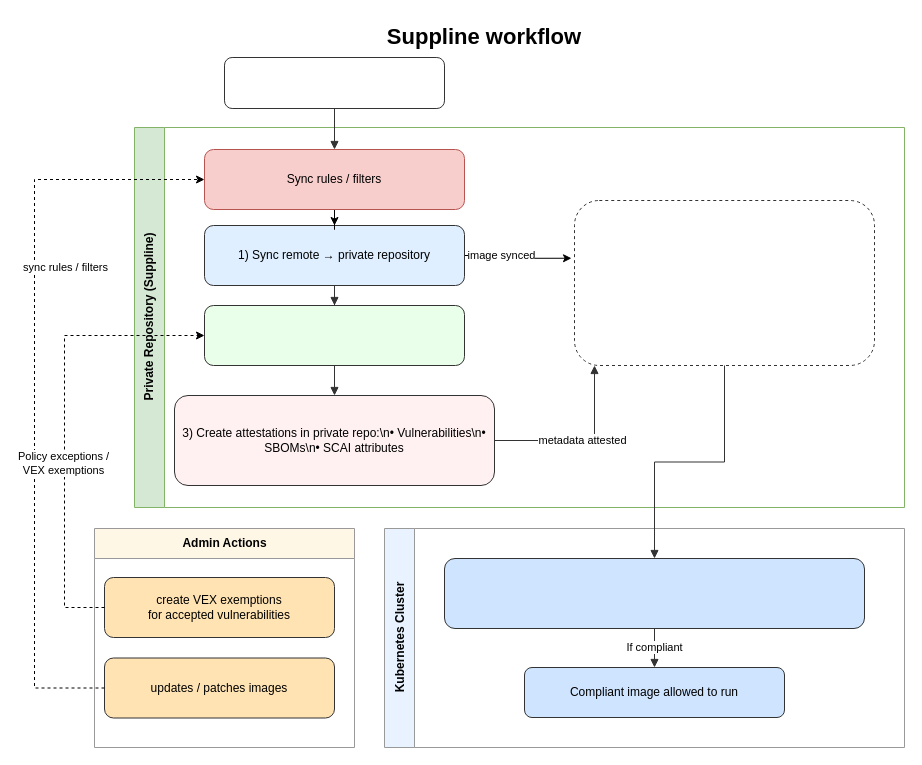
This 922x765 diagram has some shape labels left out. The shapes that lost their labels are listed below. From the top down, each one's centre as x and y in pixels, then its label:
At (x=334, y=82): "Third-party container images".
At (x=724, y=283): "Private registry stores: • Mirrored images • Attestations".
At (x=334, y=335): "2) Scan images for vulnerabilities".
At (x=654, y=593): "5) Before running an image: Kubernetes checks attestations for compliance".
